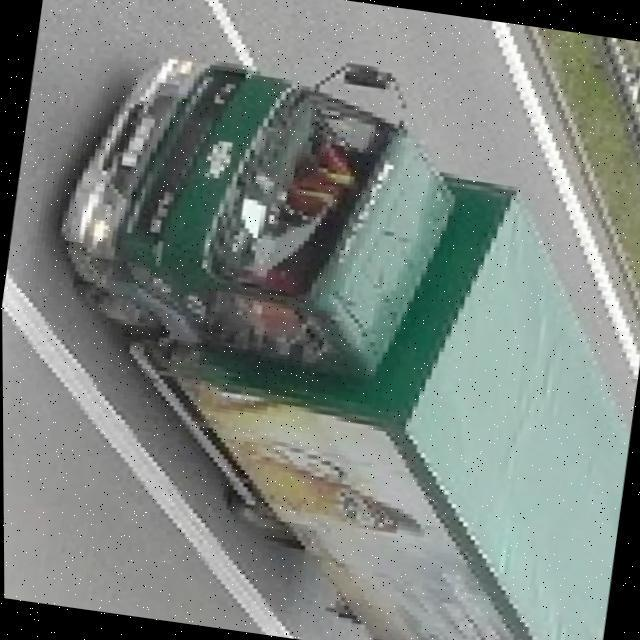truck: (6, 25, 640, 640)
